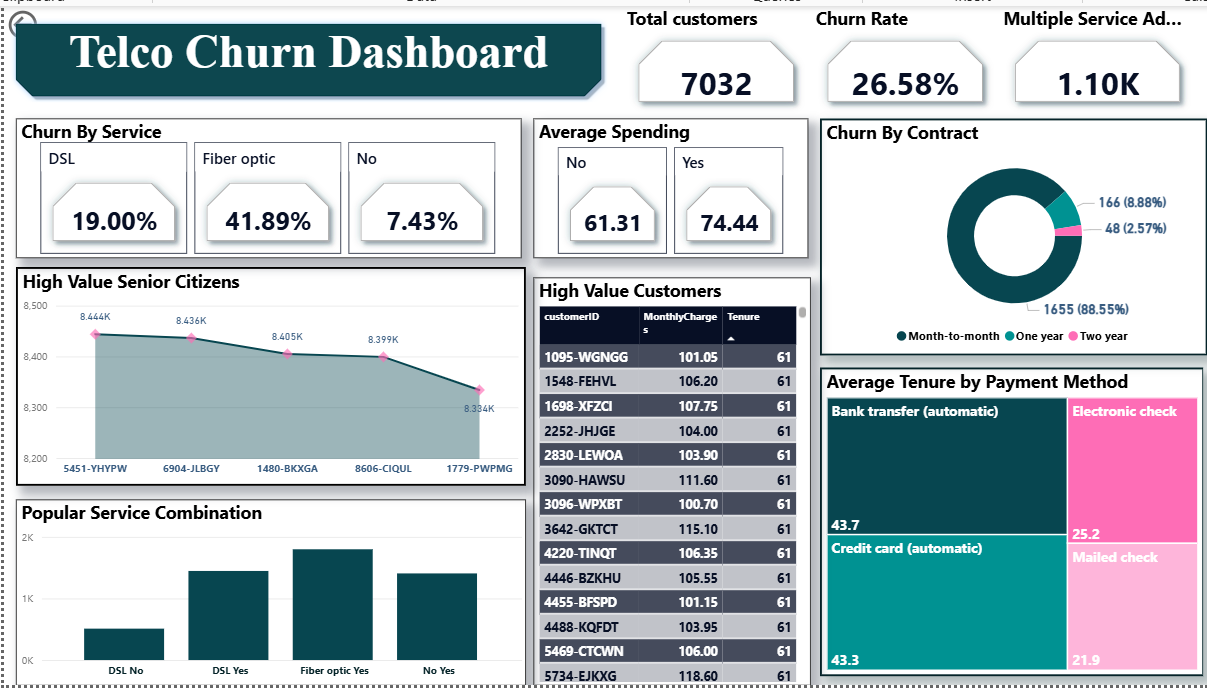

This screenshot's page, from the dashboard's own definition file:
{"tool":"powerbi","page":{"name":"Page 1","canvas":[1280,720],"ordinal":0},"visuals":[{"type":"cardVisual","title":"Total customers","fields":{"Data":["Count(Telcocustomer.customerID)"]},"box":[655.3,0,199.8,119.3],"z":0,"group":"g1"},{"type":"cardVisual","title":"Average Spending","fields":{"Data":["Avg(Telcocustomer.MonthlyCharges)"],"Rows":["Telcocustomer.Churn"]},"box":[561.5,119.3,291.1,147.9],"z":0},{"type":"actionButton","box":[0,0,100,40],"z":1000},{"type":"cardVisual","title":"Churn By Service","fields":{"Rows":["Telcocustomer.InternetService"],"Data":["Telcocustomer.churn rate"]},"box":[12.7,119.3,536,147.9],"z":2000},{"type":"donutChart","title":"Churn By Contract","fields":{"Category":["Telcocustomer.Contract"],"Y":["CountNonNull(Telcocustomer.Churn)"]},"box":[865.3,119.3,412,251.3],"z":3000},{"type":"areaChart","title":"High Value Senior Citizens","fields":{"Category":["Telcocustomer.customerID"],"Y":["Sum(Telcocustomer.TotalCharges)"]},"box":[12.7,276.8,540.8,232.2],"z":4000},{"type":"treemap","title":"Average Tenure by Payment Method","fields":{"Group":["Telcocustomer.PaymentMethod"],"Values":["Avg(Telcocustomer.tenure)"]},"box":[865.3,383.3,407.2,327.7],"z":5000},{"type":"clusteredColumnChart","title":"Popular Service Combination","fields":{"Y":["CountNonNull(Telcocustomer.type)"],"Category":["Telcocustomer.InternetService","Telcocustomer.PhoneService"],"Series":["Telcocustomer.Churn"]},"box":[12.7,523.3,540.8,197.2],"z":6000},{"type":"tableEx","title":"High Value Customers","fields":{"Values":["Telcocustomer.customerID","Telcocustomer.MonthlyCharges","Sum(Telcocustomer.tenure)"]},"box":[561.5,287.9,294.3,432.6],"z":7000},{"type":"cardVisual","title":"Multiple Service Adoption","fields":{"Data":["Telcocustomer.securetech"]},"box":[1054.9,0,209.6,119.3],"z":8000,"group":"g1"},{"type":"shape","box":[6.4,12.7,633.1,89.1],"z":8000},{"type":"group","id":"g1","title":"Group 1","box":[655.3,0,609.2,119.3],"z":9000},{"type":"cardVisual","title":"Churn Rate","fields":{"Data":["Telcocustomer.churn rate"]},"box":[855.1,0,199.8,119.3],"z":10000,"group":"g1"}]}

Visuals, with their boxes in screenshot pixels (x1, y1, x2, y2):
"Total customers" cardVisual: 625/6/811/117
"Average Spending" cardVisual: 538/117/809/255
actionButton: 16/6/109/43
"Churn By Service" cardVisual: 28/117/526/255
"Churn By Contract" donutChart: 820/117/1204/351
"High Value Senior Citizens" areaChart: 28/264/530/480
"Average Tenure by Payment Method" treemap: 820/363/1199/667
"Popular Service Combination" clusteredColumnChart: 28/493/530/676
"High Value Customers" tableEx: 538/274/812/676
"Multiple Service Adoption" cardVisual: 997/6/1192/117
shape: 22/18/610/101
"Group 1" group: 625/6/1192/117
"Churn Rate" cardVisual: 811/6/997/117
